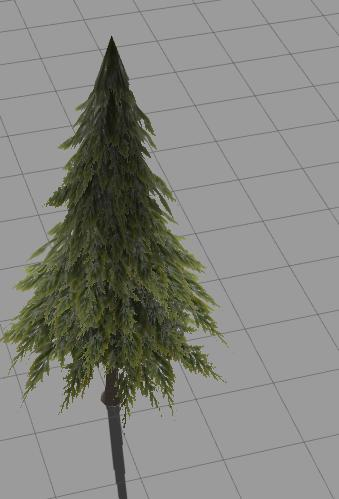tree_gazebo: (3, 38, 221, 499), (105, 369, 118, 393)
